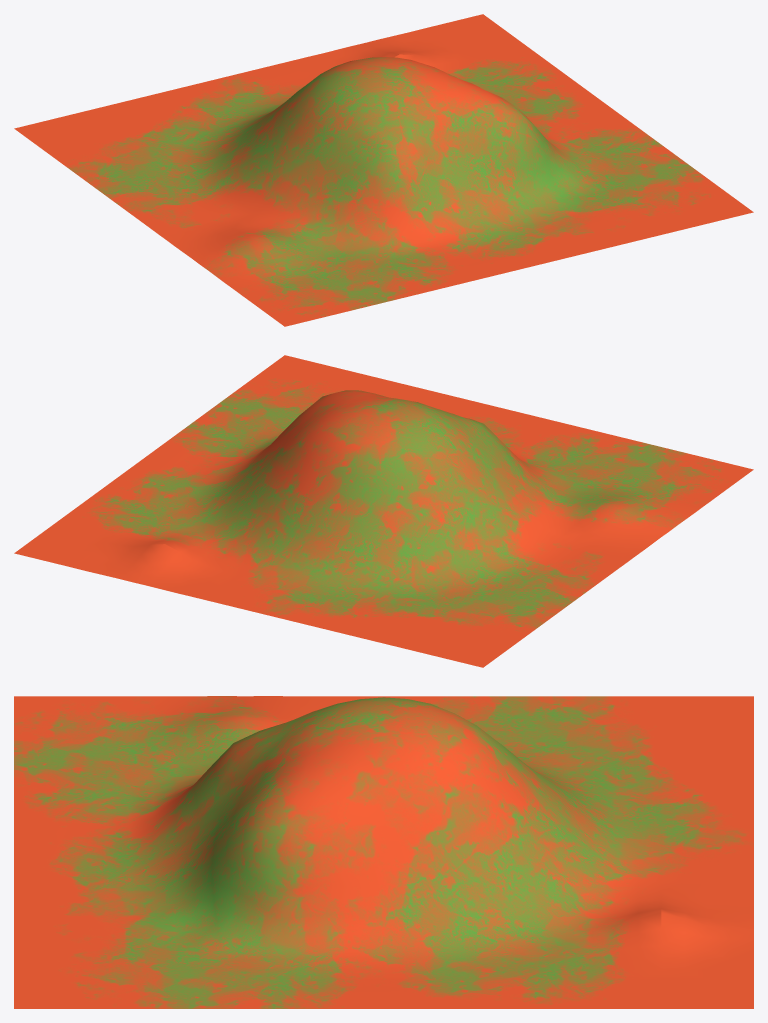
File: tile1.obj
3 renders of one model, top to bottom at view 1: azimuth 30°, elevation 25°; view 2: azimuth 150°, elevation 25°; view 3: azimuth 270°, elevation 25°, orthographic. The views are drawn at different scales.
Visible parts, largest first — view 1: Tile1_Plane.004; view 2: Tile1_Plane.004; view 3: Tile1_Plane.004.
Part boxes in pixels (x1,y1,x2,y2): Tile1_Plane.004: (14, 14, 753, 326); Tile1_Plane.004: (14, 355, 753, 667); Tile1_Plane.004: (14, 696, 753, 1008).
Size of the model in its own units: 30 by 6.16 by 30.
